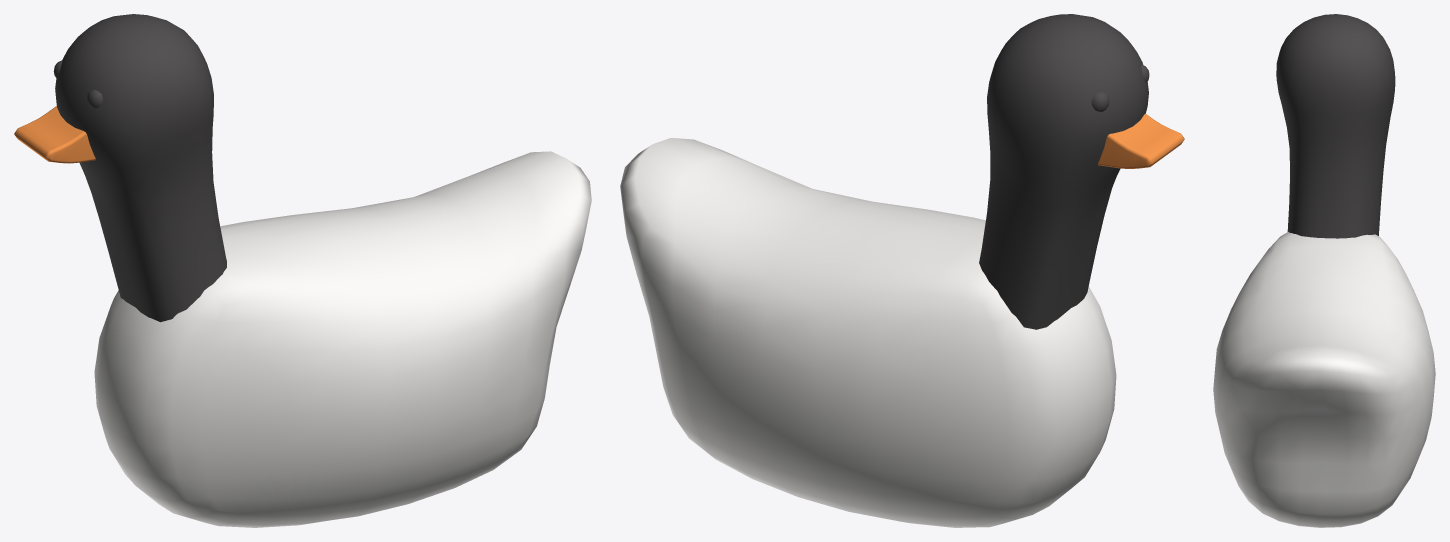
File: Bird_1.glb
The picture shows the model from 3 angles, left to right: view 1: azimuth 30°, elevation 25°; view 2: azimuth 150°, elevation 25°; view 3: azimuth 270°, elevation 25°; orthographic projection. The views are drawn at different scales.
Parts seen in each view (by area): view 1: Bird_1; view 2: Bird_1; view 3: Bird_1.
Boxes of the visible parts, <box> form: Bird_1: <box>14,14,591,527</box>; Bird_1: <box>620,14,1184,527</box>; Bird_1: <box>1213,14,1435,527</box>.
Size of the model in its own units: 0.3921 by 0.3627 by 0.1827.
1 material, 1 textured.
